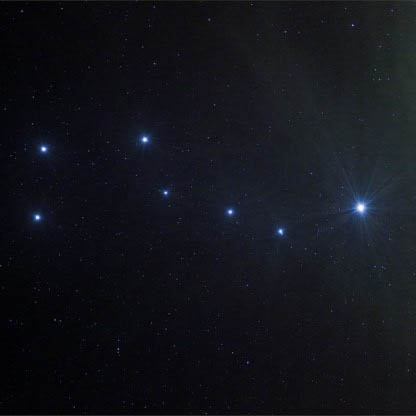Ursa Major: (337, 181, 385, 230), (25, 131, 57, 168), (128, 127, 159, 156), (27, 202, 56, 232), (263, 217, 292, 247), (216, 198, 240, 226), (149, 179, 176, 203)
